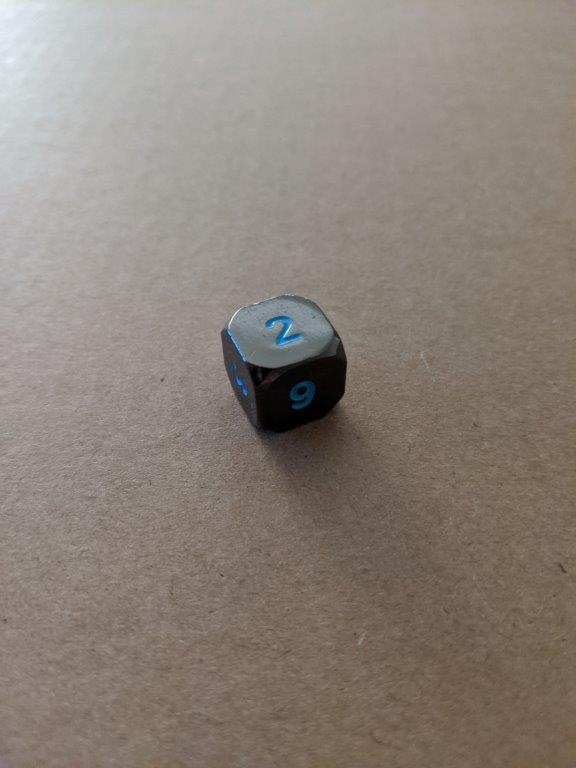d6-2: (218, 295, 350, 435)
